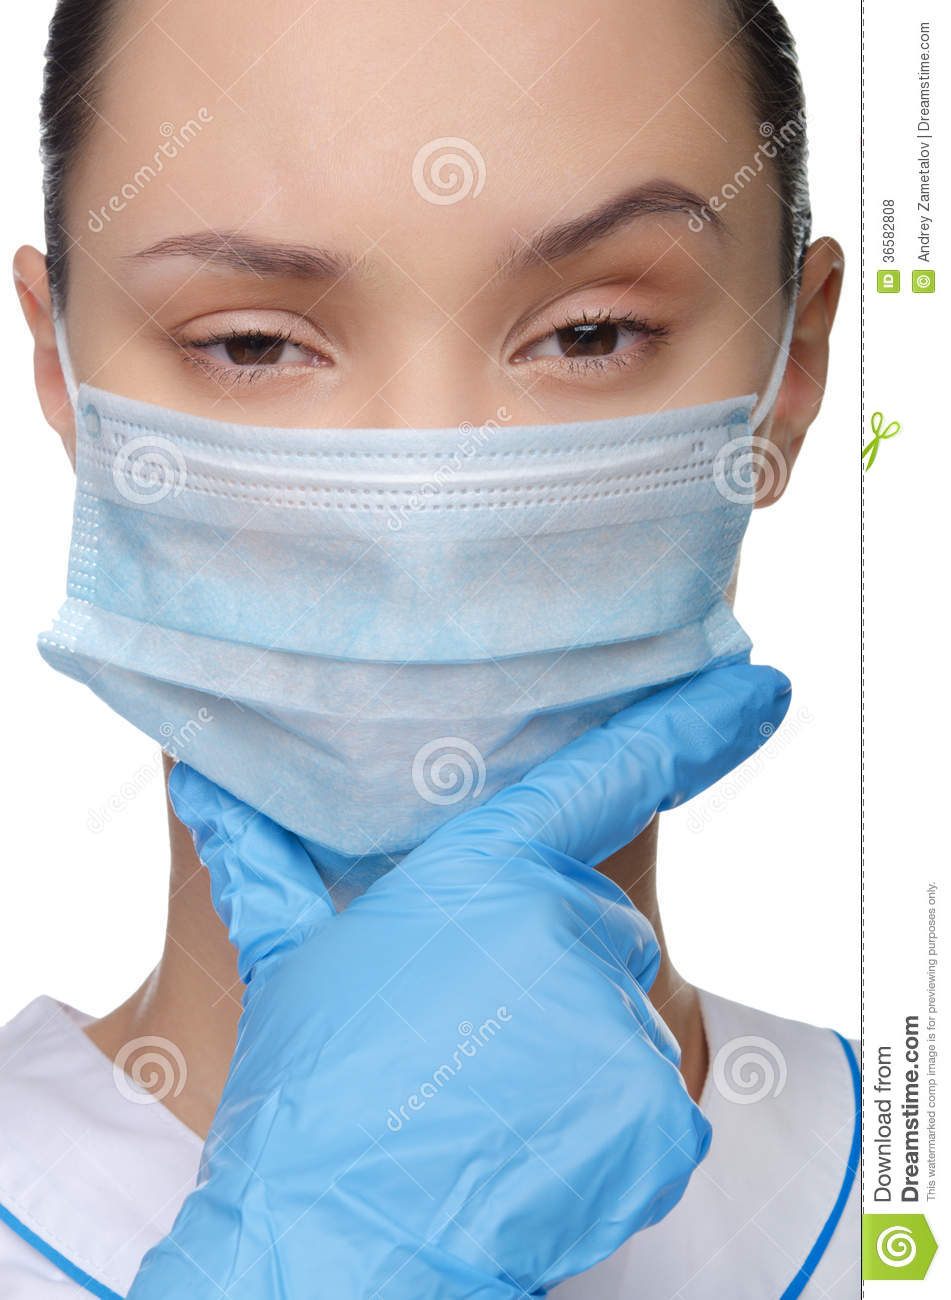mask: (67, 405, 787, 835)
